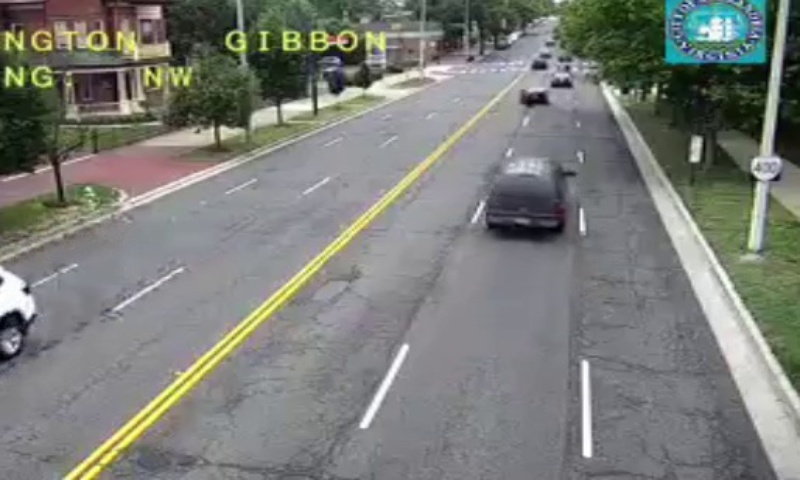car: (485, 157, 564, 230), (518, 87, 549, 106)
